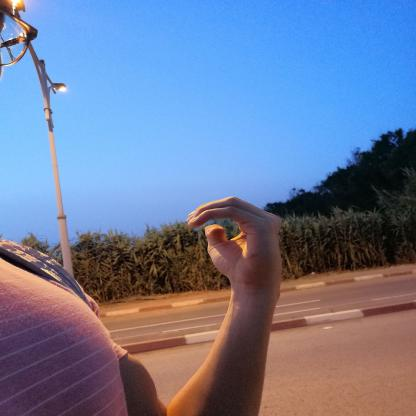JEEM: (175, 190, 302, 296)
